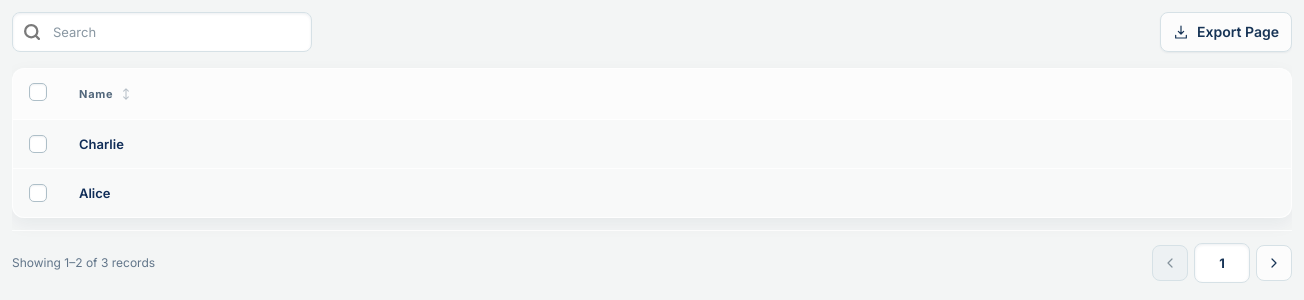
Test case: shared controls › searches, sorts and paginates local rows
Check: the text "Charlie" is shown, box [63, 120, 1291, 169]
Check: the text "Bob" is not shown
Click the button "Name" at (106, 94), box [79, 84, 134, 104]
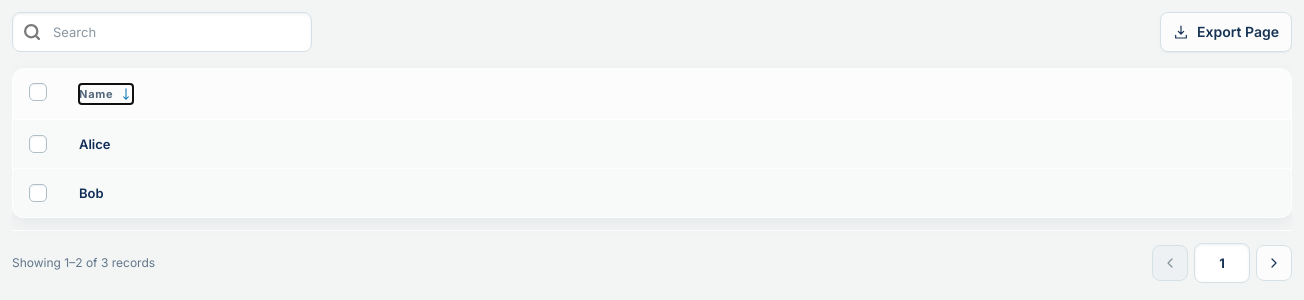
Check: the text "Alice" is shown, box [63, 120, 1291, 169]
Click the button named "Next page" at (1274, 263), box [1256, 245, 1292, 281]
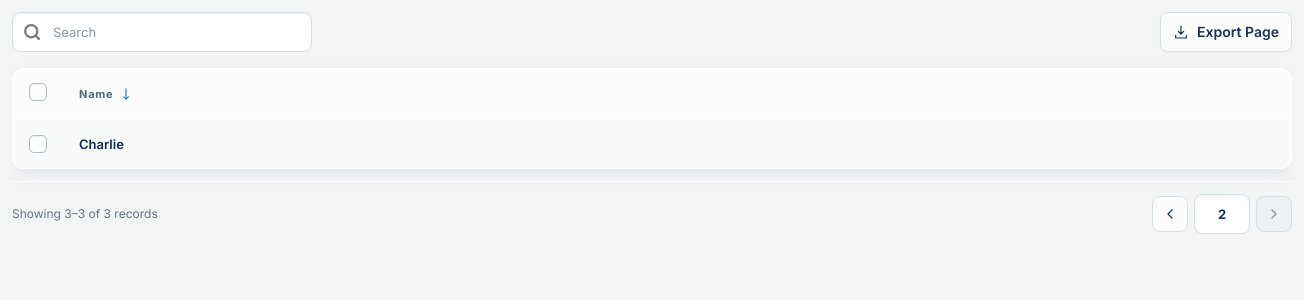
Check: the text "Charlie" is shown, box [63, 120, 1291, 168]
Type "bob" into the search field labelled "Search" at (162, 32), box [12, 12, 312, 52]
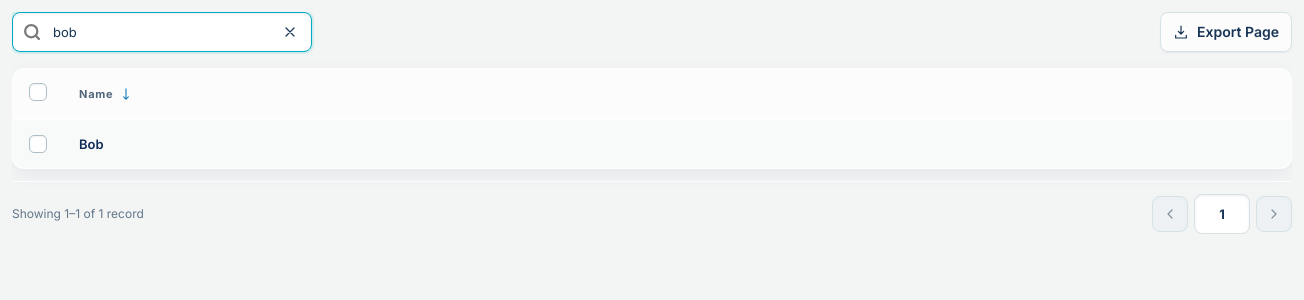
Check: the text "Alice" is not shown
Check: the text "Bob" is shown, box [63, 120, 1291, 168]
